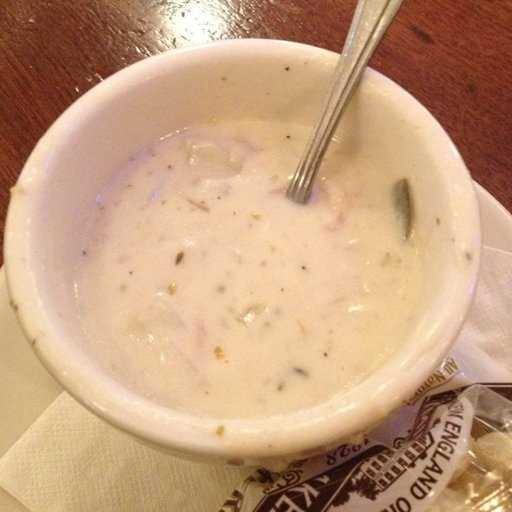soup: (73, 106, 410, 399)
